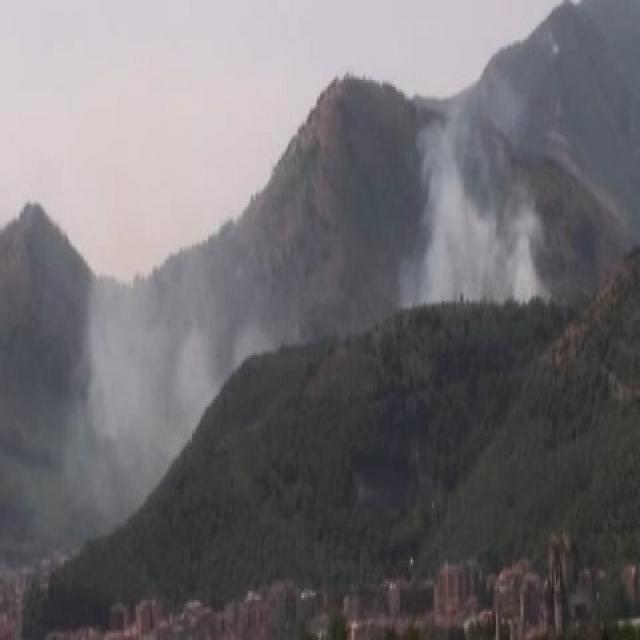smoke: (84, 282, 214, 478), (412, 133, 545, 304)
